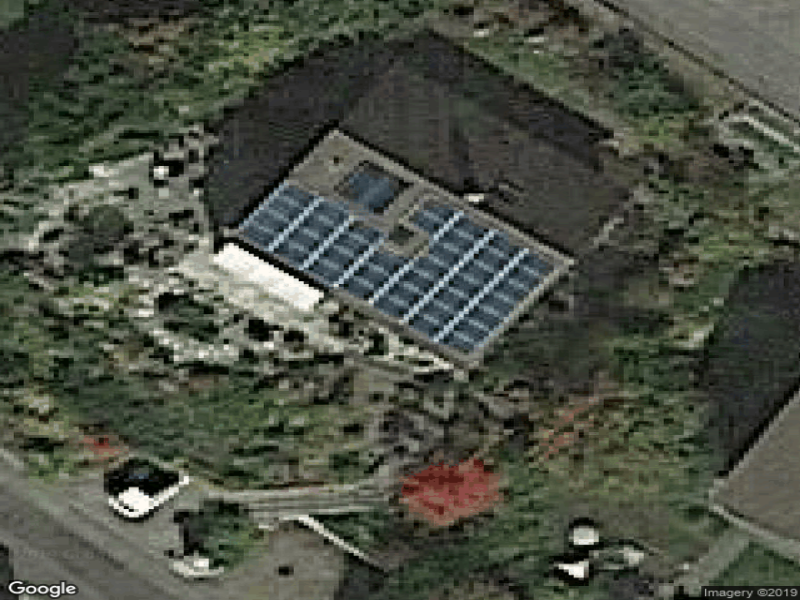pv: (238, 184, 558, 359)
